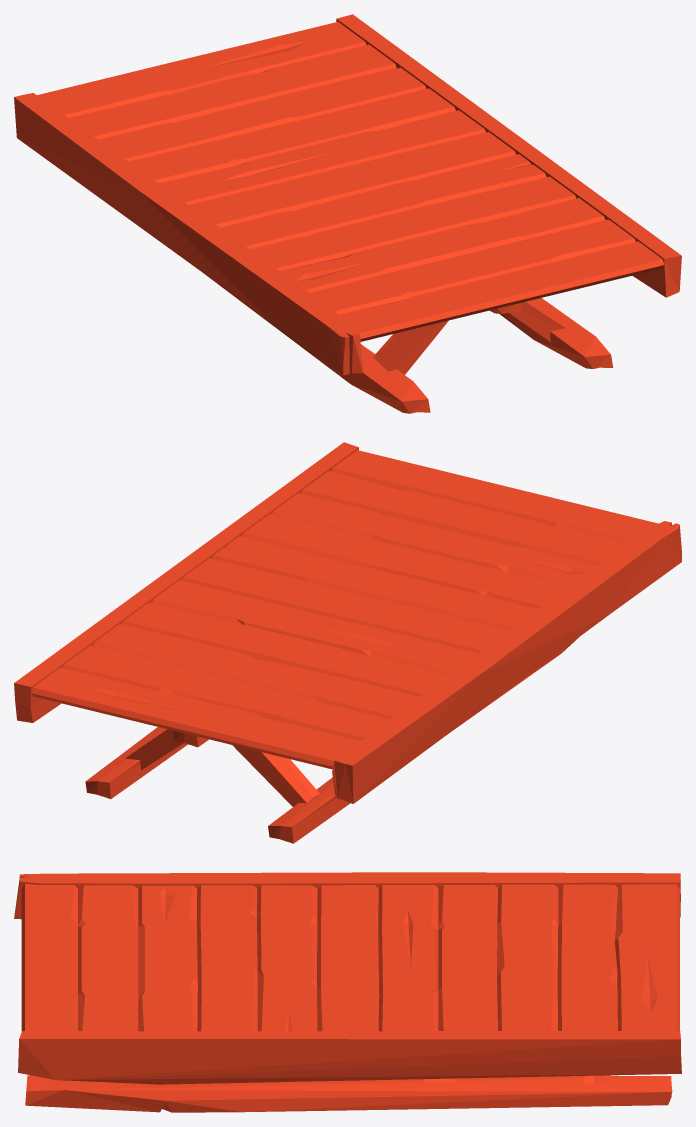
The model's file is SM_Pier_Base_Long_City.fbx.
3 views of the same model, one above another, from view 1: azimuth 30°, elevation 25°; view 2: azimuth 150°, elevation 25°; view 3: azimuth 270°, elevation 25° (orthographic).
Parts seen in each view (by area): view 1: SM_Pier_Base_Long_City; view 2: SM_Pier_Base_Long_City; view 3: SM_Pier_Base_Long_City.
Boxes of the visible parts, <box> form: SM_Pier_Base_Long_City: <box>14,14,681,413</box>; SM_Pier_Base_Long_City: <box>14,442,681,843</box>; SM_Pier_Base_Long_City: <box>14,872,681,1112</box>.
Size of the model in its own units: 3 by 0.8683 by 5.07.
